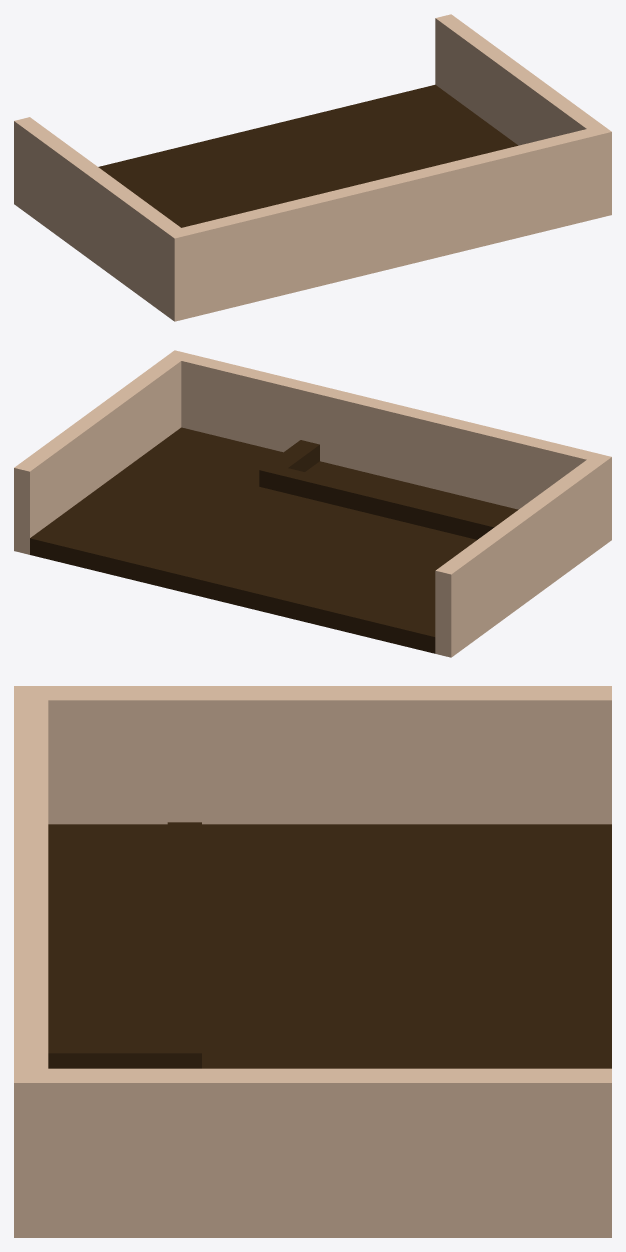
The model's file is baari.gltf.
3 renders of one model, top to bottom at view 1: azimuth 30°, elevation 25°; view 2: azimuth 150°, elevation 25°; view 3: azimuth 270°, elevation 25°, orthographic. The views are drawn at different scales.
Visible parts, largest first — view 1: Wall3, Floor, Wall2, Wall1; view 2: Floor, Wall3, Wall2, Wall1; view 3: Floor, Wall1, Wall2, Wall3.
Boxes of the visible parts, x1=… form: Wall3: x1=182, y1=129, x2=595, y2=317; Floor: x1=98, y1=84, x2=518, y2=227; Wall2: x1=14, y1=117, x2=190, y2=321; Wall1: x1=435, y1=14, x2=611, y2=218; Floor: x1=30, y1=427, x2=518, y2=653; Wall3: x1=181, y1=354, x2=595, y2=509; Wall2: x1=435, y1=453, x2=611, y2=657; Wall1: x1=14, y1=350, x2=190, y2=554; Floor: x1=48, y1=822, x2=611, y2=1068; Wall1: x1=14, y1=1068, x2=611, y2=1237; Wall2: x1=14, y1=686, x2=611, y2=824; Wall3: x1=14, y1=700, x2=48, y2=1068.
Bounding box in the file's own units: 55 × 10 × 35.
